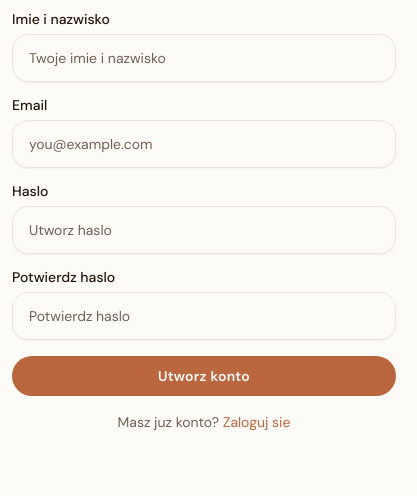
Test: SignUpForm › validates email format
This screenshot has width=417, height=496.
Type "invalid-email" into the field labelled "Email" at [204, 144], box x1=12 y1=120 x2=396 y2=168
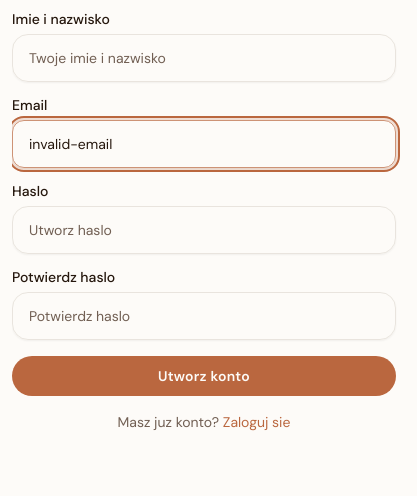
Type "Jan Kowalski" into the field labelled "Imie i nazwisko" at [204, 58], box x1=12 y1=34 x2=396 y2=82
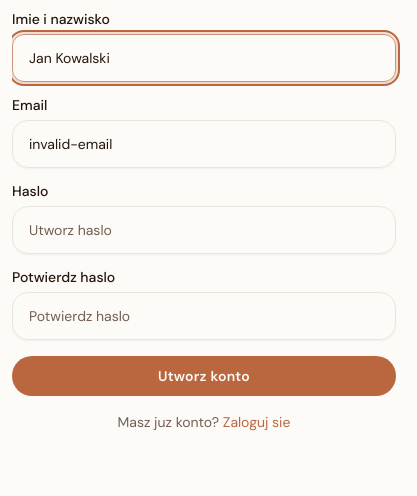
Type "password123" into the password field labelled "Haslo" at [204, 230], box x1=12 y1=206 x2=396 y2=254
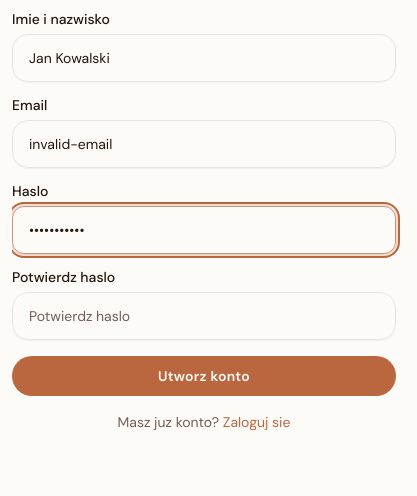
Type "password123" into the password field labelled "Potwierdz haslo" at [204, 316], box x1=12 y1=292 x2=396 y2=340
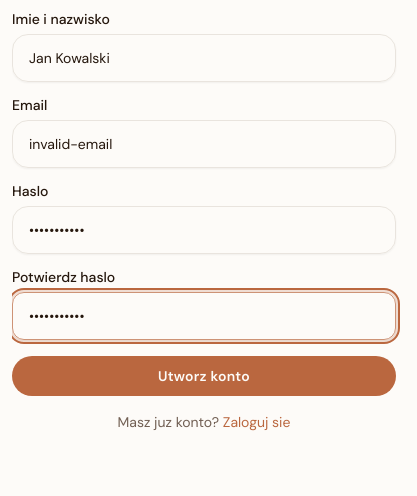
Click the button "Utworz konto" at [204, 376], box x1=12 y1=356 x2=396 y2=396
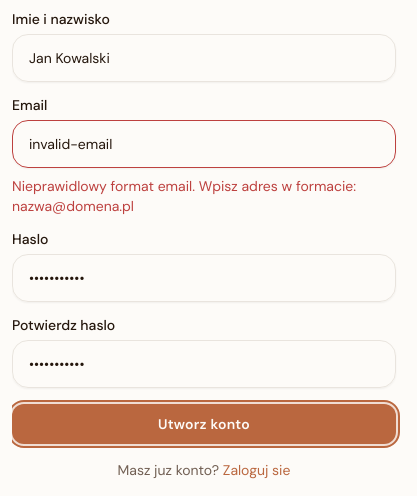
expect the text "Nieprawidlowy format email. Wpisz adres w formacie: nazwa@domena.pl" is shown: met, box x1=12 y1=176 x2=396 y2=216
